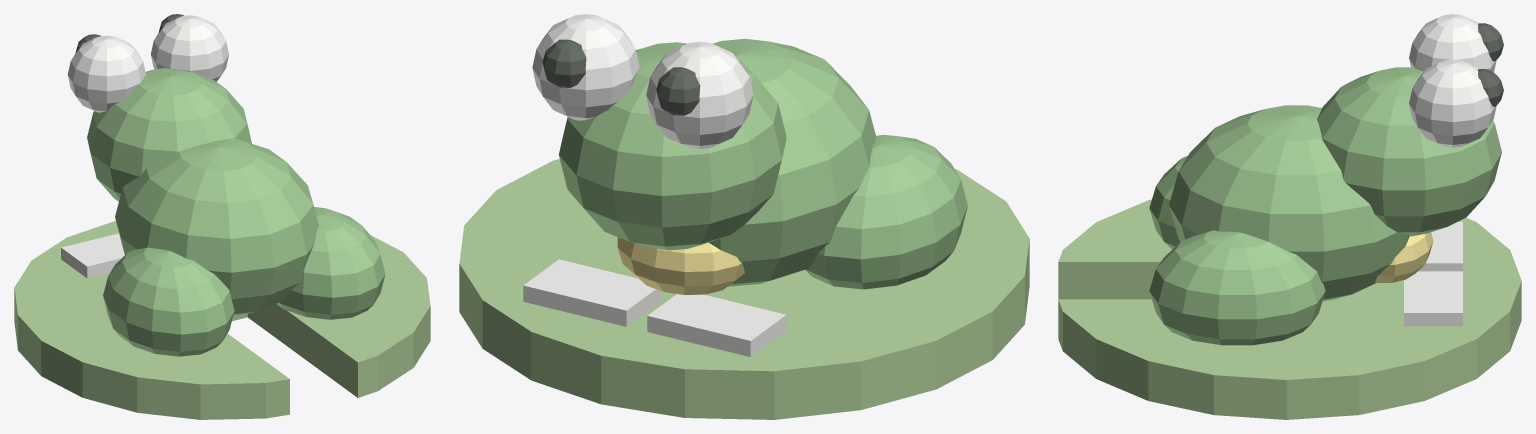
The model's file is frog.glb.
The picture shows the model from 3 angles, left to right: view 1: azimuth 30°, elevation 25°; view 2: azimuth 150°, elevation 25°; view 3: azimuth 270°, elevation 25°; orthographic projection. The views are drawn at different scales.
Parts seen in each view (by area): view 1: frog_body, frog_pad; view 2: frog_body, frog_pad; view 3: frog_body, frog_pad.
Boxes of the visible parts, x1,y1,x2,y2 form: frog_body: (61,14,385,356); frog_pad: (14,220,430,419); frog_body: (523,14,967,357); frog_pad: (459,159,1029,419); frog_body: (1149,14,1503,345); frog_pad: (1058,199,1521,419).
Size of the model in its own units: 0.48 by 0.315 by 0.4729.
